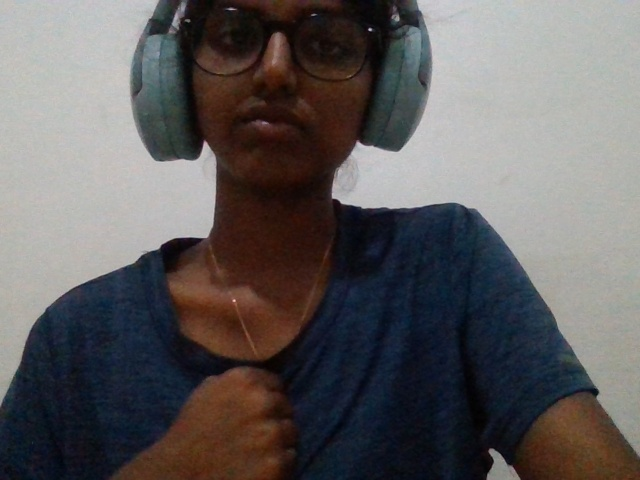Sorry: (112, 327, 319, 480)
